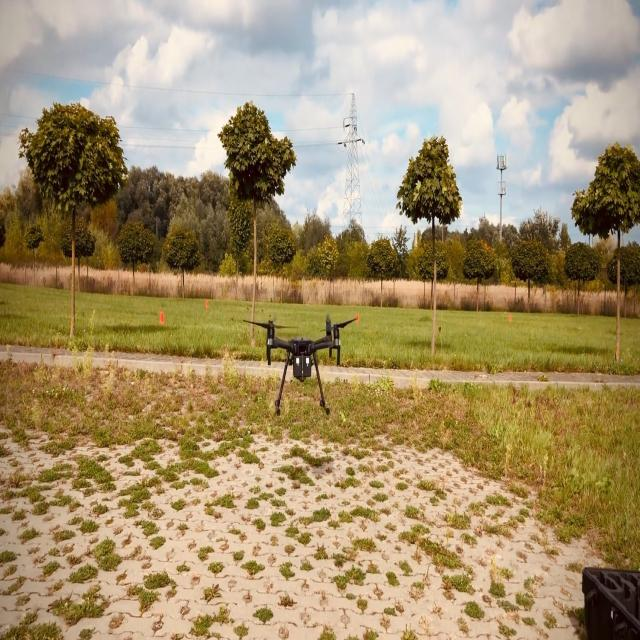drone: (242, 312, 359, 416)
